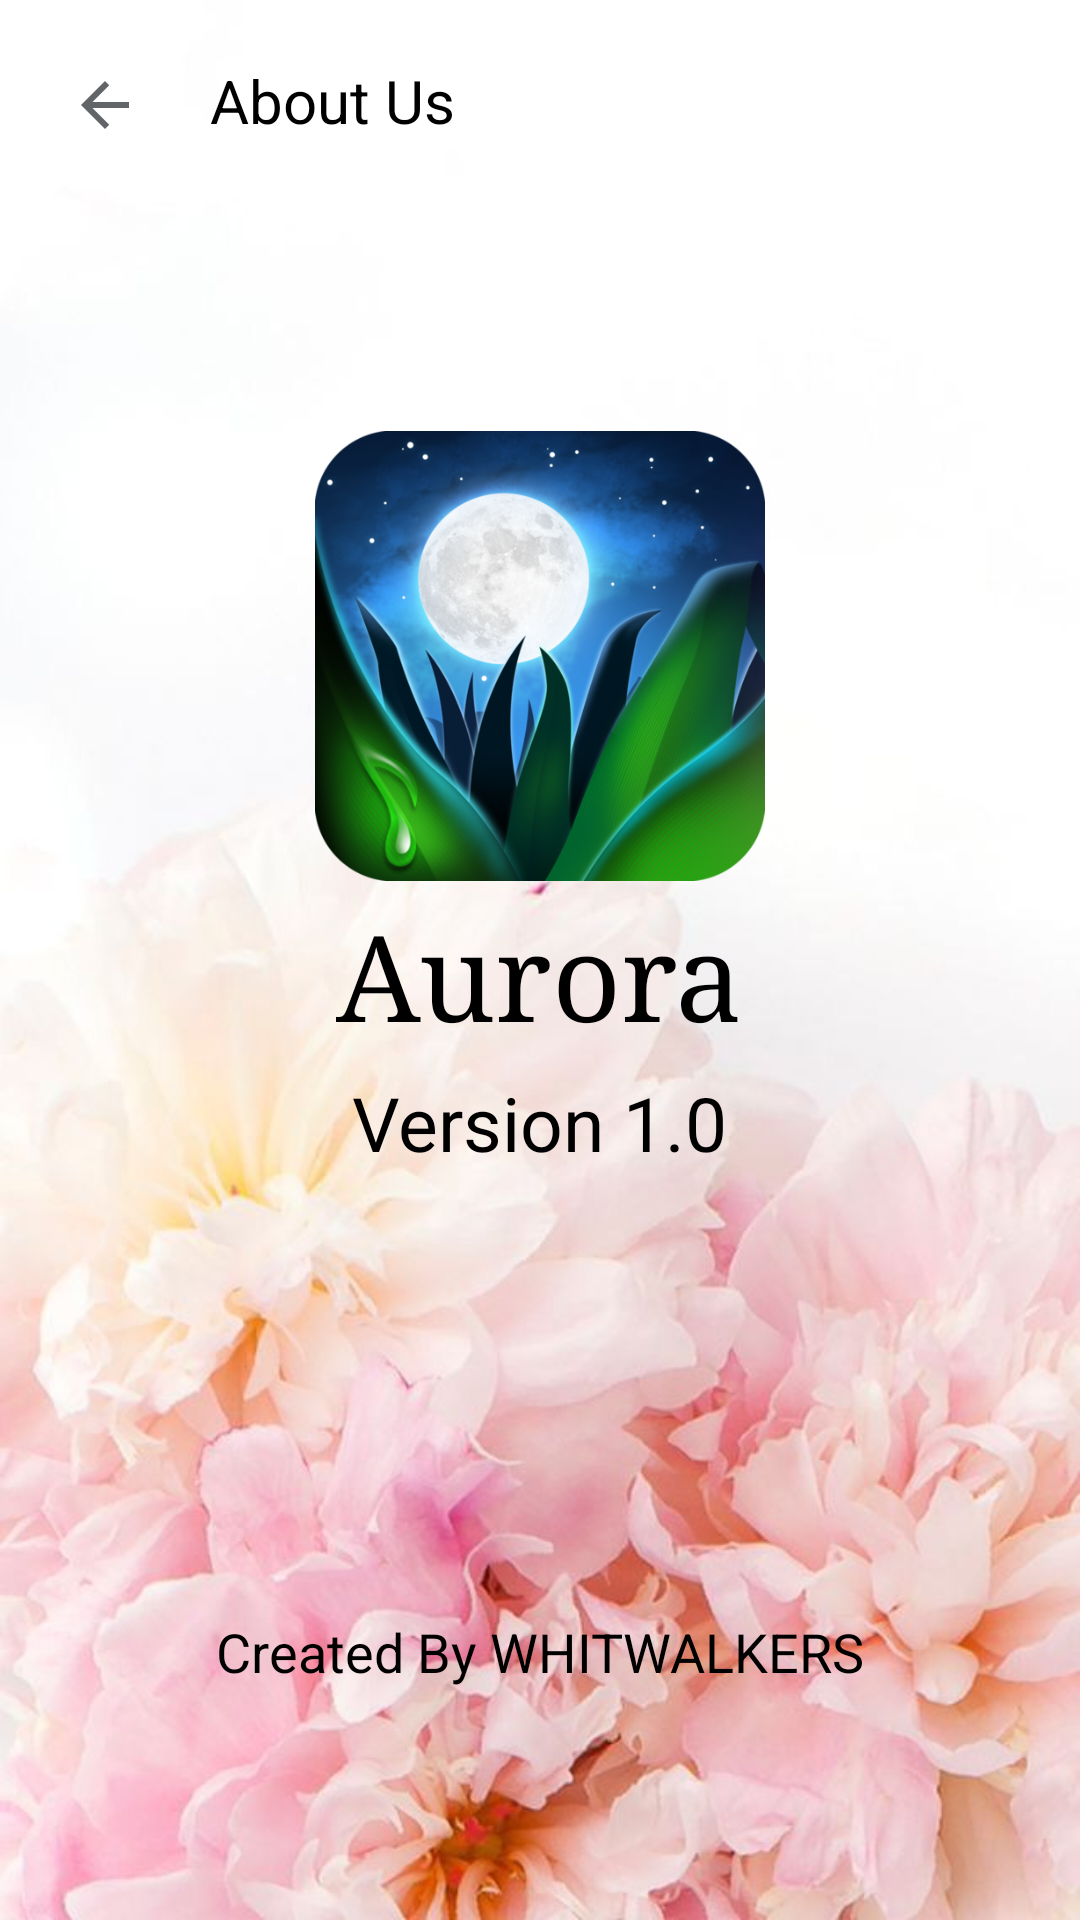

Where to tap for icons on this 1080px x 1920px app screen, as (x=x, y=y):
arrow back: (x=105, y=105)
